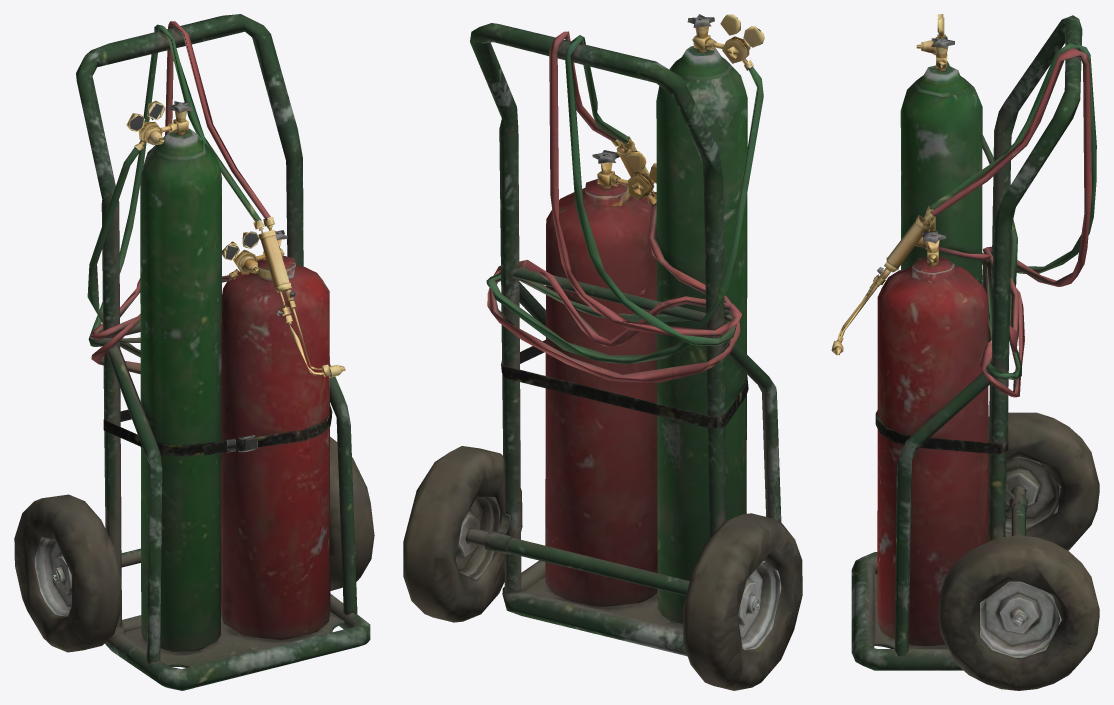
Rendered from portable_welding_cart.gltf.
3 views of the same model, side by side, from view 1: azimuth 30°, elevation 25°; view 2: azimuth 150°, elevation 25°; view 3: azimuth 270°, elevation 25° (orthographic). The views are drawn at different scales.
Parts seen in each view (by area): view 1: portable_welding_cart; view 2: portable_welding_cart; view 3: portable_welding_cart.
Part boxes in pixels (<box>): portable_welding_cart: <box>14,14,374,690</box>; portable_welding_cart: <box>403,14,802,690</box>; portable_welding_cart: <box>831,14,1099,690</box>.
Size of the model in its own units: 0.8365 by 1.56 by 0.6549.
2 materials, 2 textured.
